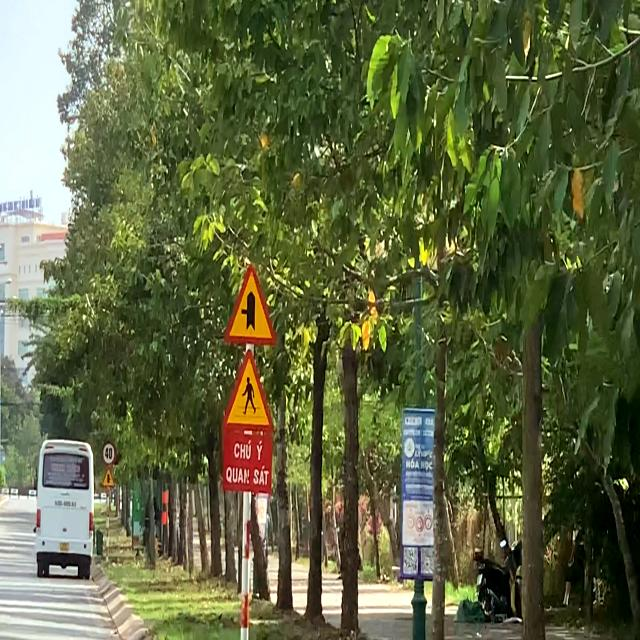P.127: (102, 441, 116, 466)
W.207b: (102, 466, 115, 488)
W.207c: (224, 261, 277, 345)
W.224: (223, 348, 274, 433)
